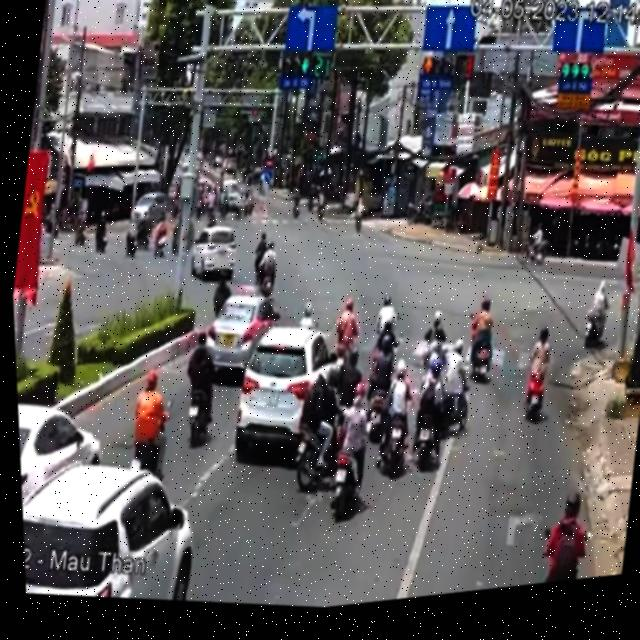Green: (278, 61, 312, 84)
Red: (420, 64, 453, 90)
